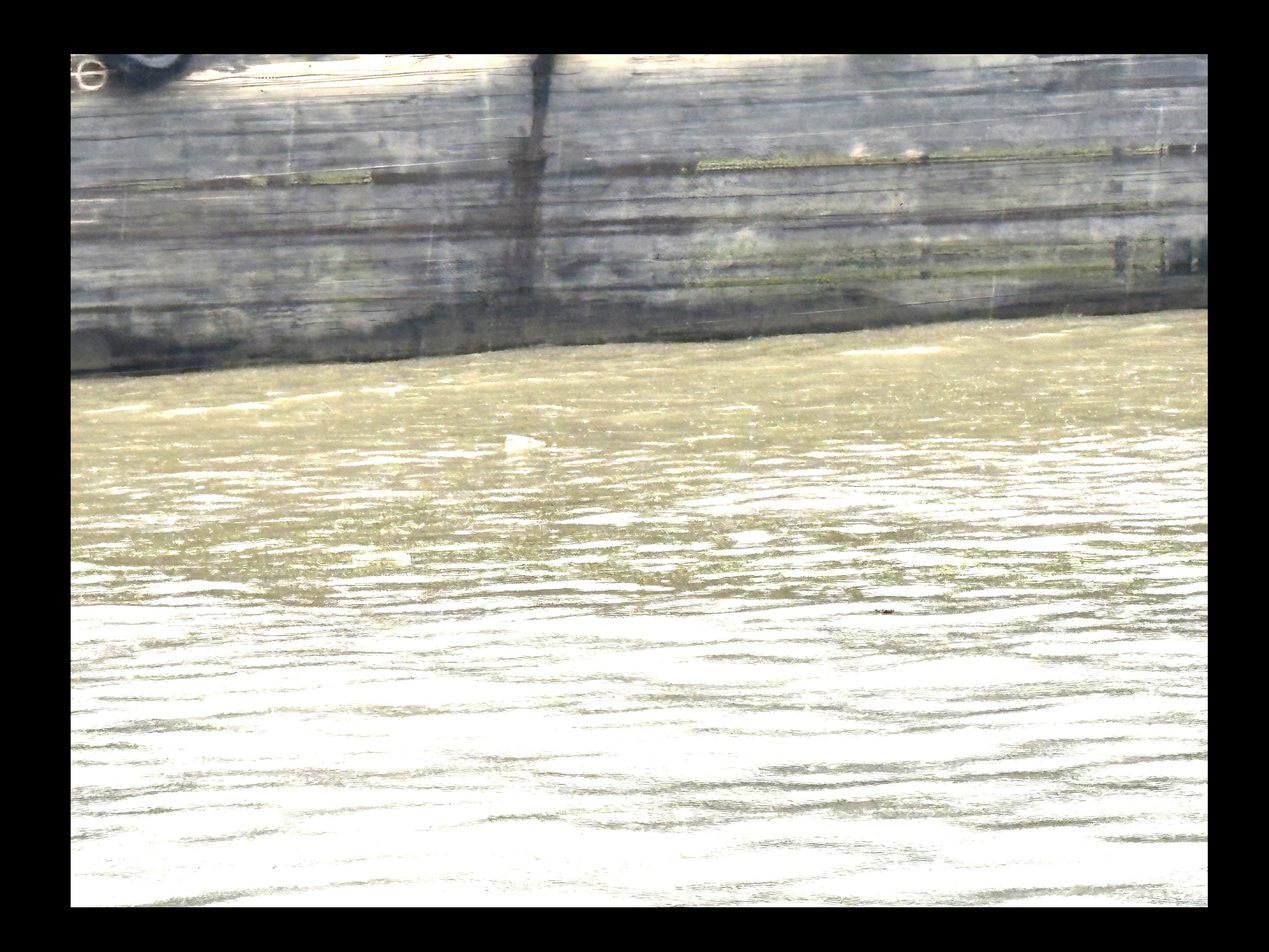Plastic wastes: (500, 432, 546, 448), (353, 551, 410, 562), (871, 605, 892, 614)
